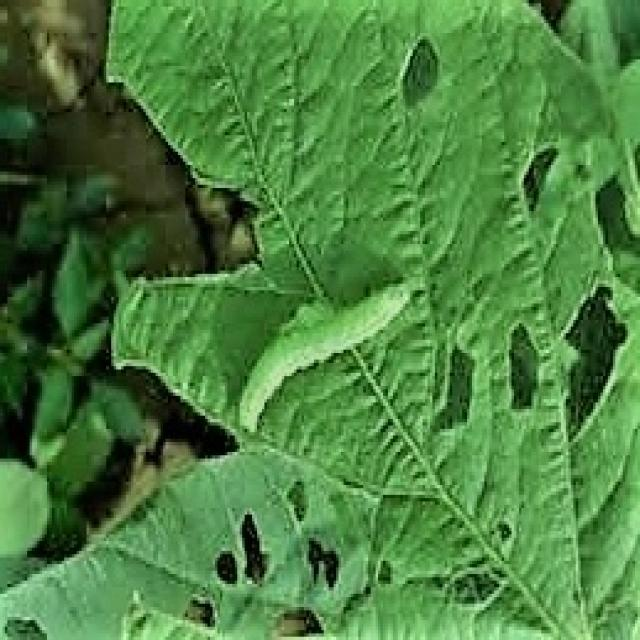armyworm: (241, 282, 421, 436)
